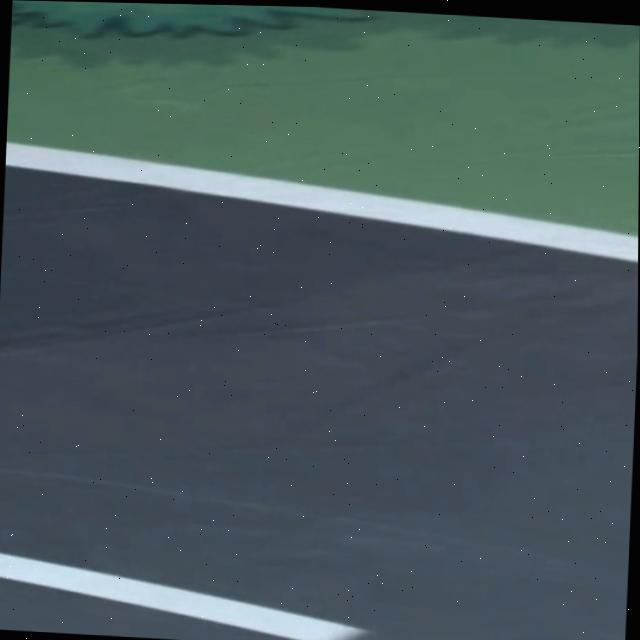center: (0, 553, 365, 640)
right: (4, 142, 638, 262)
